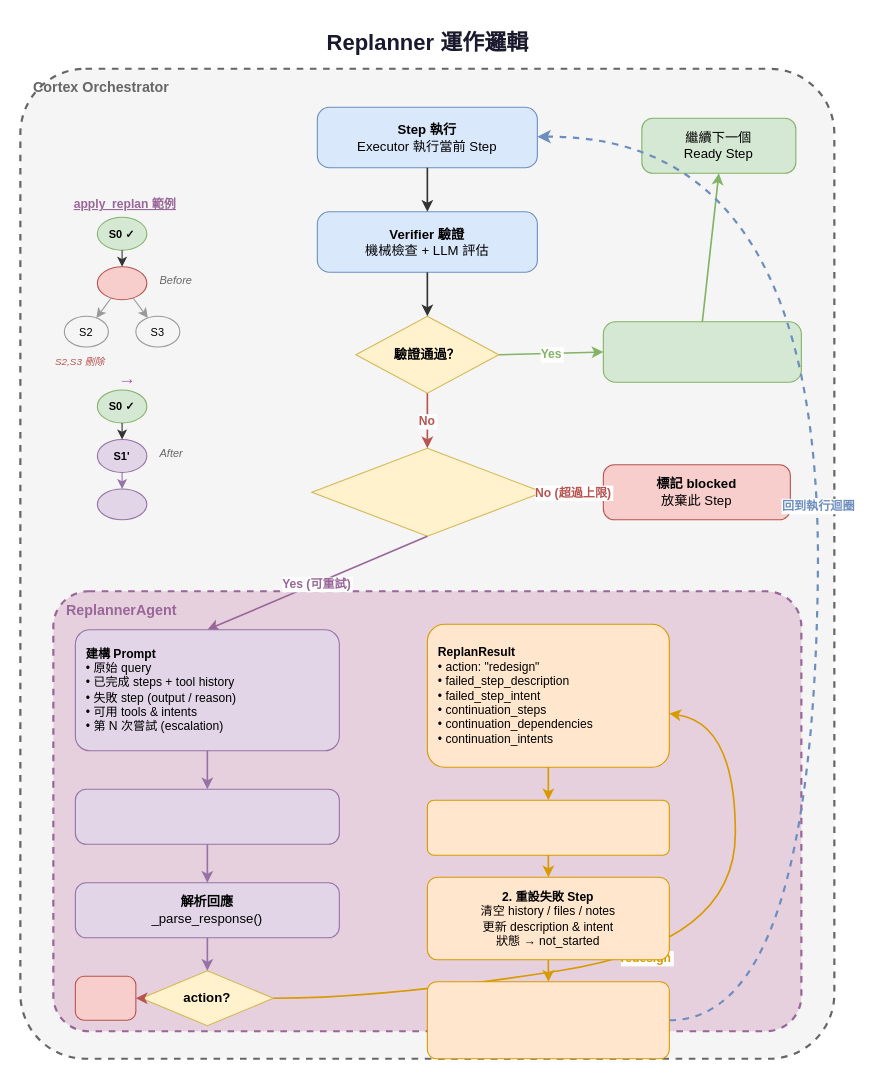
This 873x1078 diagram has some shape labels left out. Each missing label, with the centre of its shape:
1. 刪除下游 Steps _get_downstream(): the point at 547,827
3. 加入 Continuation Steps local ID → actual ID root 接 terminal nodes 建立 DAG 依賴: the point at 547,1020
give_up: the point at 105,997
global_replan_count < max_replan?: the point at 427,491
LLM 呼叫 產生 ReplanResult: the point at 206,816
New: the point at 121,504
S1 ✗: the point at 121,283
標記 completed 儲存 step_output: the point at 701,351
